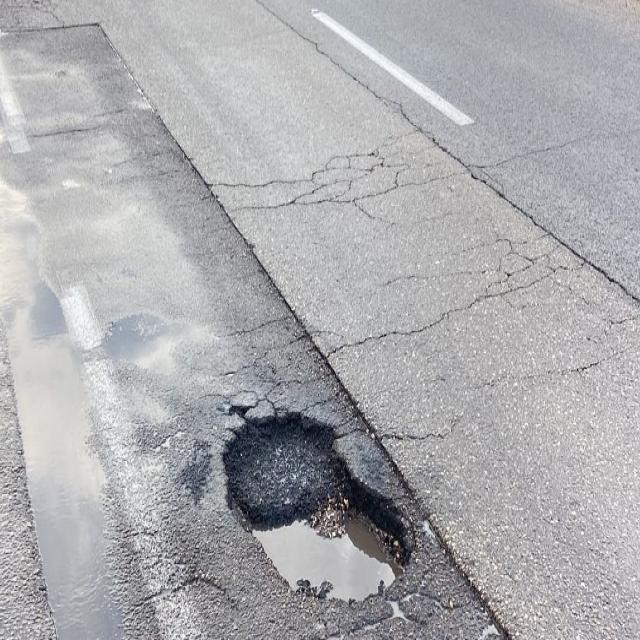major_pothole: (211, 387, 421, 618)
